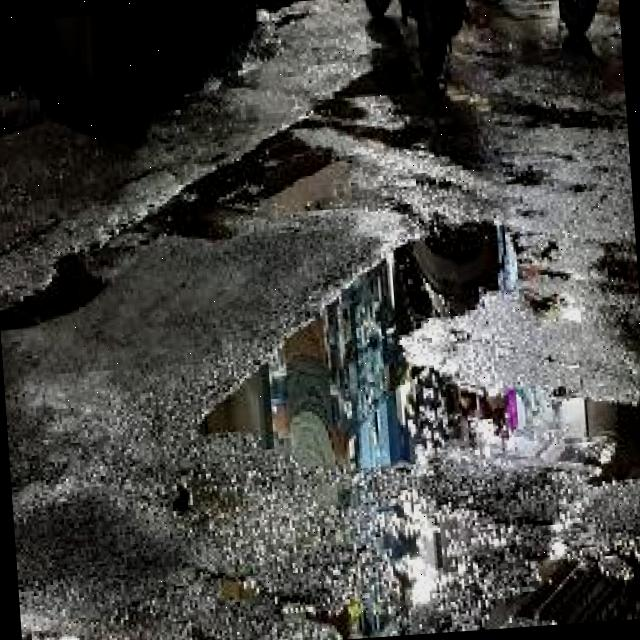stagnation: (136, 256, 558, 492), (0, 83, 355, 355)
